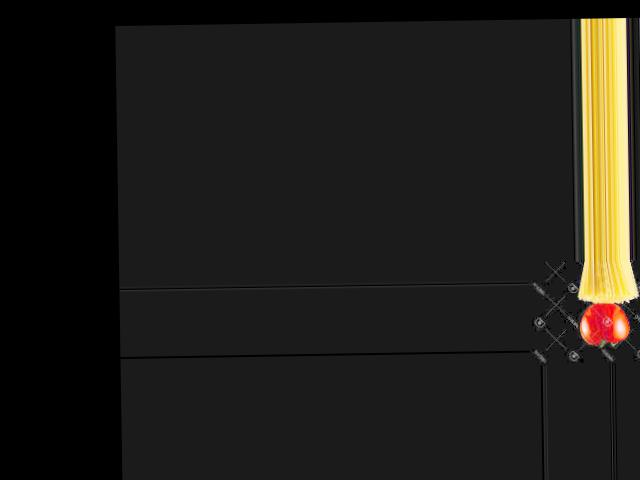tomato: (580, 302, 629, 344)
